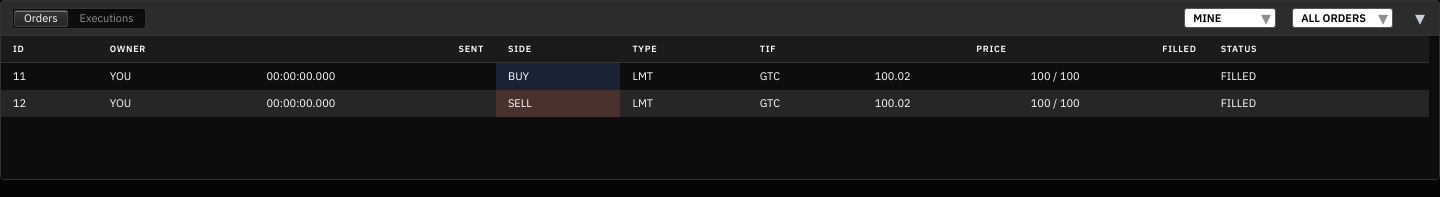
Test: blotter view switch (P18-10) › shows the filters and the cancel menu on Orders only
Expected: the button with test id "blotter-filter-trigger" is shown, [1292,8,1393,28]
Expected: the button with test id "blotter-menu-btn" is shown, [1409,7,1431,29]
Step 1. Click the button with test id "blotter-tab-executions" → (107, 18), box [70,10,144,26]
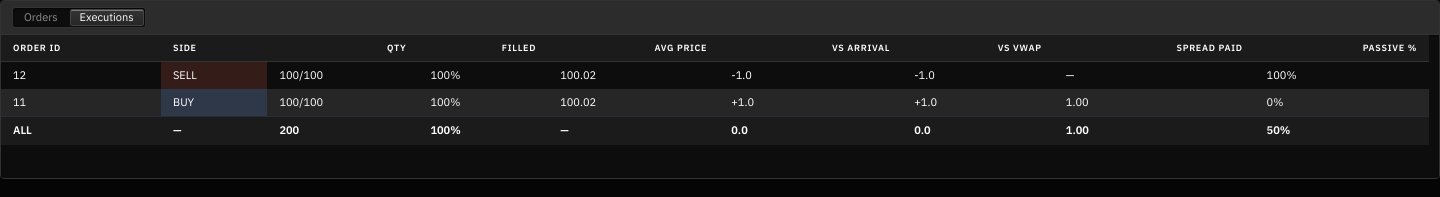
Result: the element with class "open-orders__filter" is gone
Result: the element with class "open-orders__owner-filter" is gone
Result: the button with test id "blotter-menu-btn" is gone
